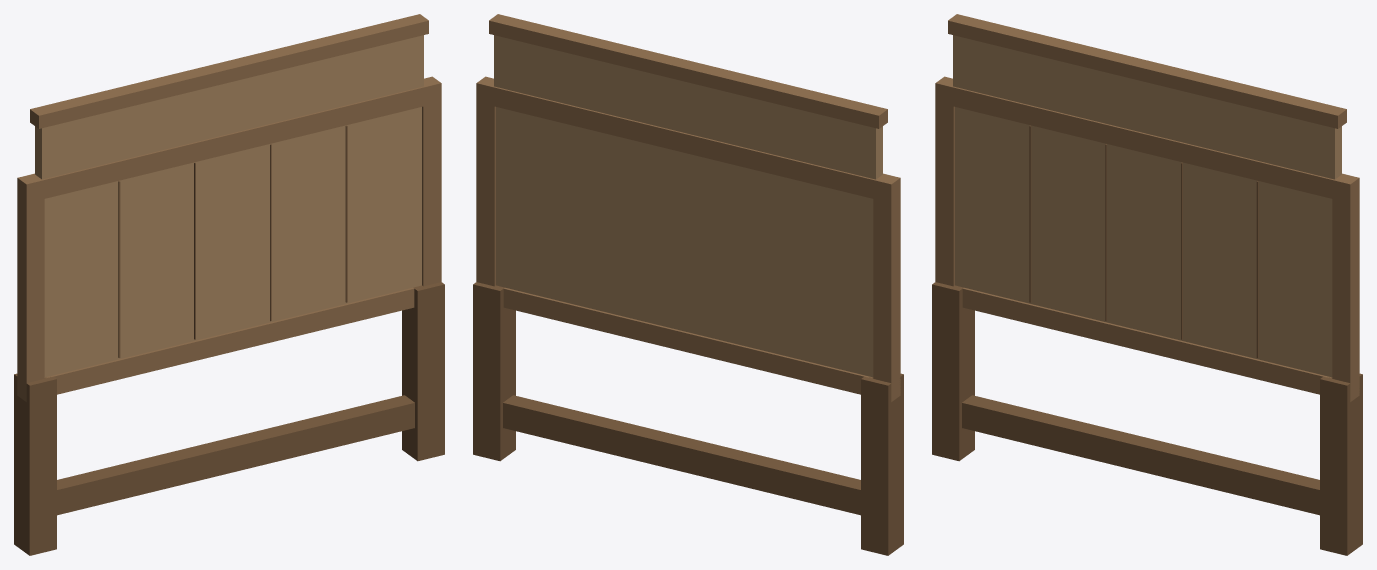
Rendered from quest_board.glb.
3 views of the same model, side by side, from view 1: azimuth 30°, elevation 25°; view 2: azimuth 150°, elevation 25°; view 3: azimuth 330°, elevation 25° (orthographic).
Parts seen in each view (by area): view 1: QB_Panel, QB_Header, QB_Brace, QB_HeaderTrim, QB_FrameTop, QB_FrameBot, QB_Post_-1, QB_Post_1, QB_FrameL, QB_FrameR, QB_Seam_4, QB_Seam_1; view 2: QB_Panel, QB_Header, QB_Brace, QB_HeaderTrim, QB_FrameTop, QB_FrameBot, QB_Post_-1, QB_Post_1, QB_FrameL, QB_FrameR; view 3: QB_Panel, QB_Header, QB_Brace, QB_HeaderTrim, QB_FrameTop, QB_FrameBot, QB_Post_1, QB_Post_-1, QB_FrameR, QB_FrameL, QB_Seam_1, QB_Seam_4.
Part boxes in pixels (x1,y1,x2,y2): QB_Panel: (44, 107, 421, 377); QB_Header: (35, 35, 423, 179); QB_Brace: (57, 395, 414, 515); QB_HeaderTrim: (30, 14, 428, 128); QB_FrameTop: (17, 76, 441, 203); QB_FrameBot: (17, 287, 414, 401); QB_Post_-1: (14, 373, 56, 555); QB_Post_1: (402, 282, 444, 461); QB_FrameL: (17, 197, 44, 383); QB_FrameR: (422, 102, 441, 286); QB_Seam_4: (345, 125, 347, 302); QB_Seam_1: (118, 181, 120, 357); QB_Panel: (496, 107, 873, 377); QB_Header: (494, 35, 882, 179); QB_Brace: (503, 395, 860, 515); QB_HeaderTrim: (489, 14, 887, 128); QB_FrameTop: (476, 76, 900, 203); QB_FrameBot: (503, 287, 900, 401); QB_Post_-1: (861, 373, 903, 555); QB_Post_1: (473, 282, 515, 461); QB_FrameL: (873, 197, 900, 383); QB_FrameR: (476, 102, 495, 286); QB_Panel: (955, 107, 1332, 377); QB_Header: (953, 35, 1341, 179); QB_Brace: (962, 395, 1319, 515); QB_HeaderTrim: (948, 14, 1346, 128); QB_FrameTop: (935, 76, 1359, 203); QB_FrameBot: (962, 287, 1359, 401); QB_Post_1: (1320, 373, 1362, 555); QB_Post_-1: (932, 282, 974, 461); QB_FrameR: (1332, 197, 1359, 383); QB_FrameL: (935, 102, 954, 286); QB_Seam_1: (1029, 125, 1031, 302); QB_Seam_4: (1256, 181, 1258, 357).
Size of the model in its own units: 6.89 by 6.89 by 0.45.
